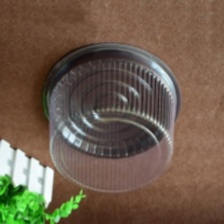plastic_box: (32, 36, 187, 202)
